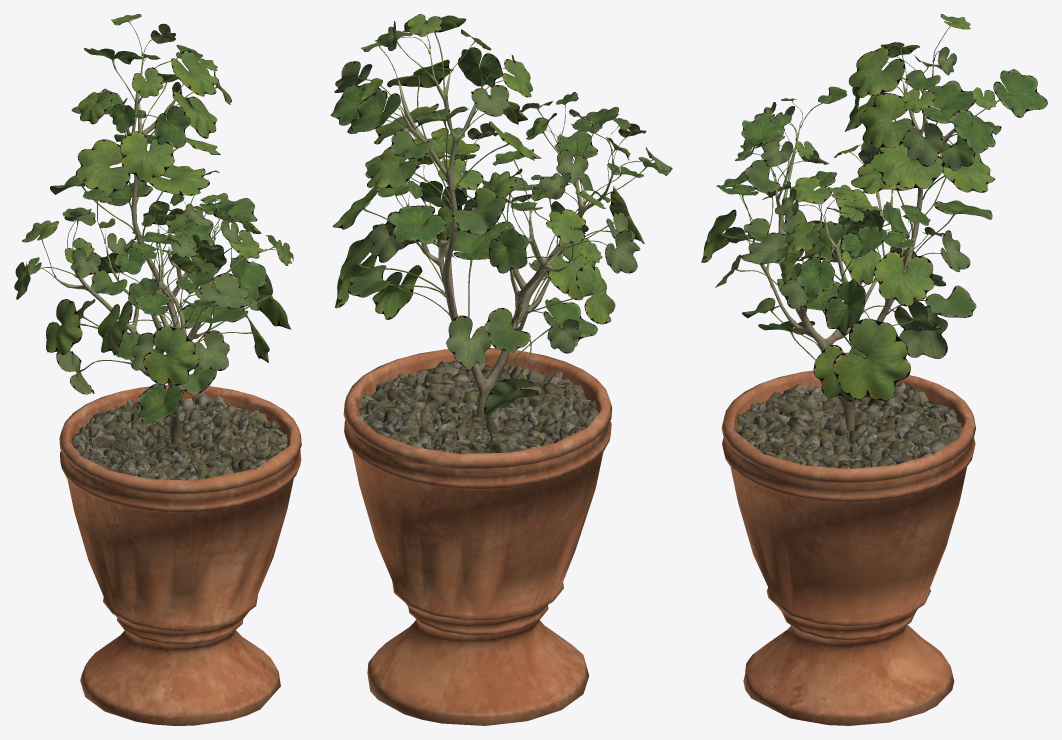
File: potted_plant_01.glb
3 renders of one model, left to right at view 1: azimuth 30°, elevation 25°; view 2: azimuth 150°, elevation 25°; view 3: azimuth 270°, elevation 25°, orthographic. The views are drawn at different scales.
Visible parts, largest first — view 1: potted_plant_01_pot, potted_plant_01_leaves, potted_plant_01_pebbles, potted_plant_01_stem; view 2: potted_plant_01_pot, potted_plant_01_leaves, potted_plant_01_pebbles, potted_plant_01_stem; view 3: potted_plant_01_pot, potted_plant_01_leaves, potted_plant_01_pebbles, potted_plant_01_stem.
Boxes of the visible parts, left/top/right/bottom form: potted_plant_01_pot: left=59, top=385, right=301, bottom=725; potted_plant_01_leaves: left=14, top=14, right=293, bottom=424; potted_plant_01_pebbles: left=71, top=392, right=287, bottom=480; potted_plant_01_stem: left=54, top=54, right=244, bottom=443; potted_plant_01_pot: left=343, top=348, right=611, bottom=725; potted_plant_01_leaves: left=330, top=14, right=672, bottom=414; potted_plant_01_pebbles: left=359, top=360, right=597, bottom=456; potted_plant_01_stem: left=398, top=48, right=613, bottom=421; potted_plant_01_pot: left=721, top=370, right=975, bottom=725; potted_plant_01_leaves: left=701, top=14, right=1047, bottom=401; potted_plant_01_pebbles: left=736, top=382, right=962, bottom=468; potted_plant_01_stem: left=752, top=55, right=967, bottom=432.
Size of the model in its own units: 0.5874 by 1.34 by 0.6336.
Materials: 2 (2 with a texture image).
